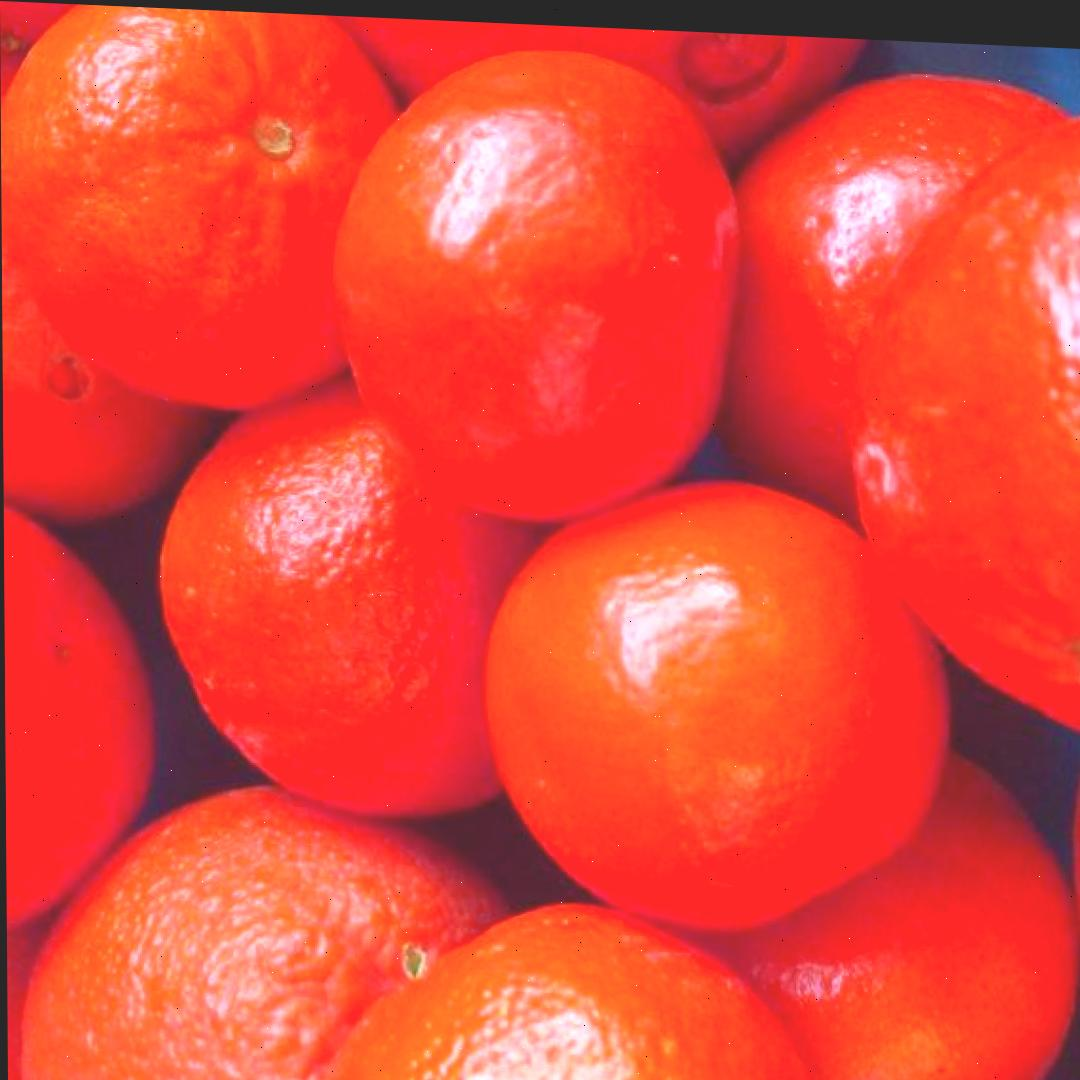matang: (480, 468, 950, 943), (329, 41, 742, 529), (0, 0, 425, 422)
